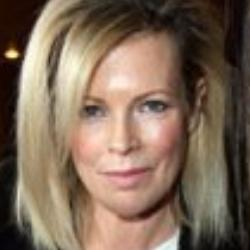face: (15, 4, 233, 239)
